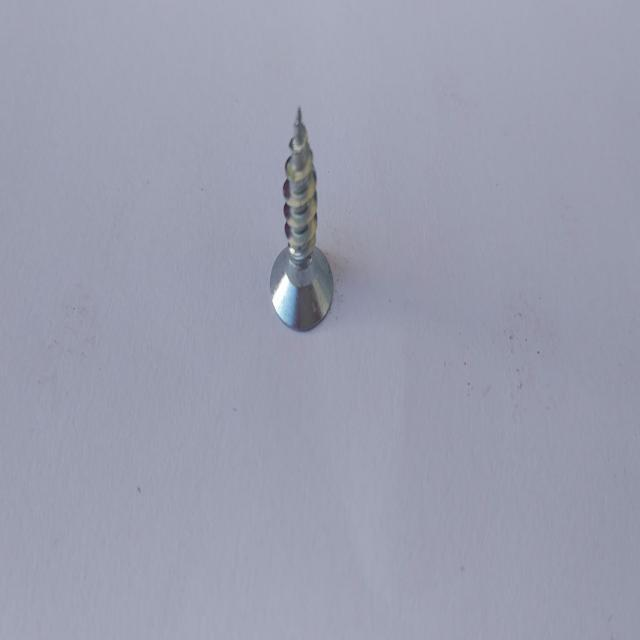Screw: (270, 106, 333, 330)
